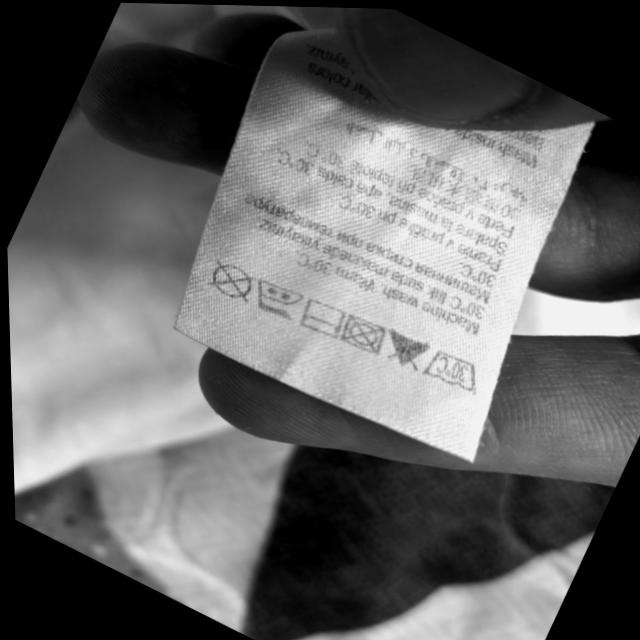30C: (422, 350, 481, 392)
DN_bleach: (388, 330, 429, 371)
DN_dry_clean: (207, 263, 255, 300)
DN_tumble_dry: (342, 314, 385, 352)
iron_medium: (254, 281, 306, 316)
machine_wash: (301, 301, 345, 335)
